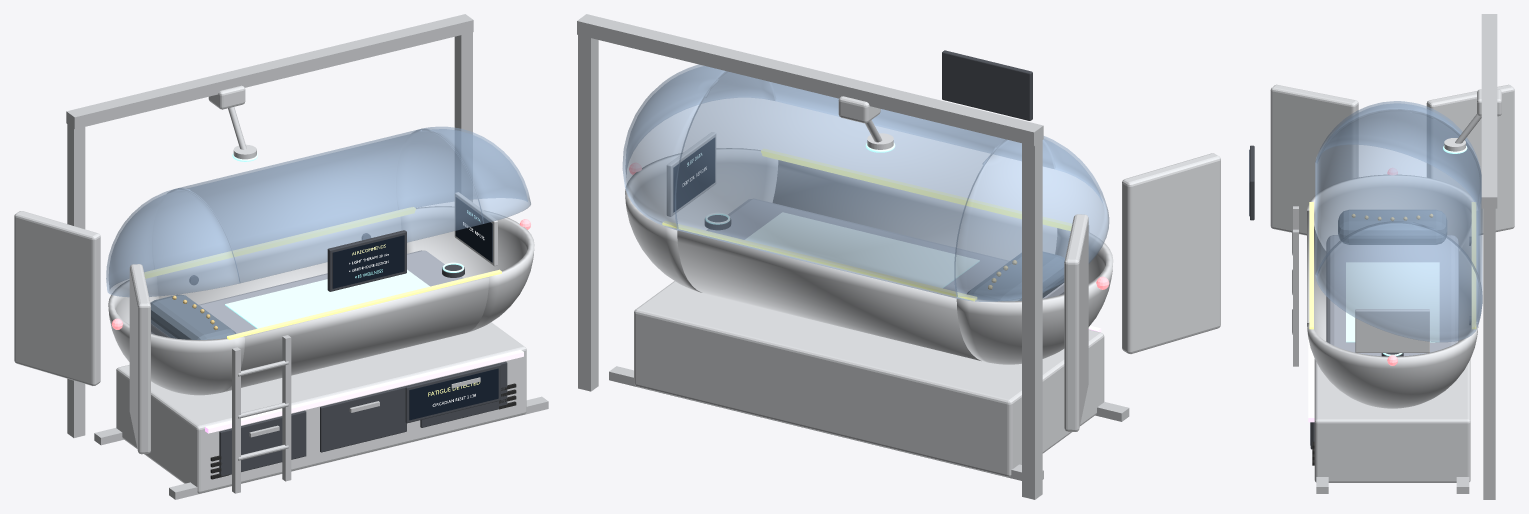
Rendered from recovery_pod_fatigue.glb.
3 views of the same model, side by side, from view 1: azimuth 30°, elevation 25°; view 2: azimuth 150°, elevation 25°; view 3: azimuth 270°, elevation 25° (orthographic). The views are drawn at different scales.
Visible parts, largest first — view 1: Smart_Canopy, Pod_Shell, Pod_Base, Privacy_Wing.001, Gantry_Beam, Sleep_Sensor_Mat, Storage_Drawer.001, Privacy_Wing, Gantry_Post.001, Gantry_Post, Storage_Drawer, AI_Recommend_Panel (+15 smaller); view 2: Smart_Canopy, Pod_Base, Pod_Shell, Privacy_Wing, Gantry_Beam, Sleep_Sensor_Mat, Gantry_Post, Gantry_Post.001, Privacy_Wing.001, AI_Recommend_Bezel, Mattress, Circadian_Strip (+6 smaller); view 3: Smart_Canopy, Pod_Shell, Pod_Base, Privacy_Wing, Privacy_Wing.001, Mattress, Sleep_Sensor_Mat, Gantry_Post.001, EEG_Headrest, Gantry_Beam, Foot_Screen_Bezel, Ladder_Rail.001 (+4 smaller).
Part boxes in pixels (x1,y1,x2,y2): Smart_Canopy: (106, 126, 530, 297); Pod_Shell: (108, 206, 534, 395); Pod_Base: (116, 322, 526, 493); Privacy_Wing.001: (14, 211, 100, 385); Gantry_Beam: (66, 14, 473, 129); Sleep_Sensor_Mat: (225, 269, 429, 328); Storage_Drawer.001: (320, 386, 406, 452); Privacy_Wing: (129, 264, 150, 454); Gantry_Post.001: (454, 32, 472, 201); Gantry_Post: (67, 118, 85, 437); Storage_Drawer: (219, 410, 306, 476); AI_Recommend_Panel: (332, 235, 404, 288); Smart_Canopy: (622, 64, 1109, 301); Pod_Base: (634, 281, 1104, 477); Pod_Shell: (625, 148, 1113, 364); Privacy_Wing: (1122, 153, 1220, 353); Gantry_Beam: (577, 14, 1043, 145); Sleep_Sensor_Mat: (745, 212, 979, 288); Gantry_Post: (1022, 133, 1042, 499); Gantry_Post.001: (578, 35, 598, 391); Privacy_Wing.001: (1064, 214, 1088, 431); AI_Recommend_Bezel: (942, 50, 1032, 120); Mattress: (706, 198, 1064, 298); Circadian_Strip: (761, 148, 1072, 230); Smart_Canopy: (1315, 101, 1482, 342); Pod_Shell: (1307, 174, 1478, 408); Pod_Base: (1314, 359, 1470, 482); Privacy_Wing: (1270, 84, 1358, 235); Privacy_Wing.001: (1426, 84, 1514, 234); Mattress: (1326, 235, 1458, 356); Sleep_Sensor_Mat: (1346, 262, 1439, 342); Gantry_Post.001: (1483, 205, 1495, 499); EEG_Headrest: (1338, 209, 1447, 244); Gantry_Beam: (1481, 14, 1497, 208); Foot_Screen_Bezel: (1355, 309, 1429, 352); Ladder_Rail.001: (1293, 229, 1298, 366).
Bounding box in the file's own units: 3.16 × 2.14 × 1.7.
